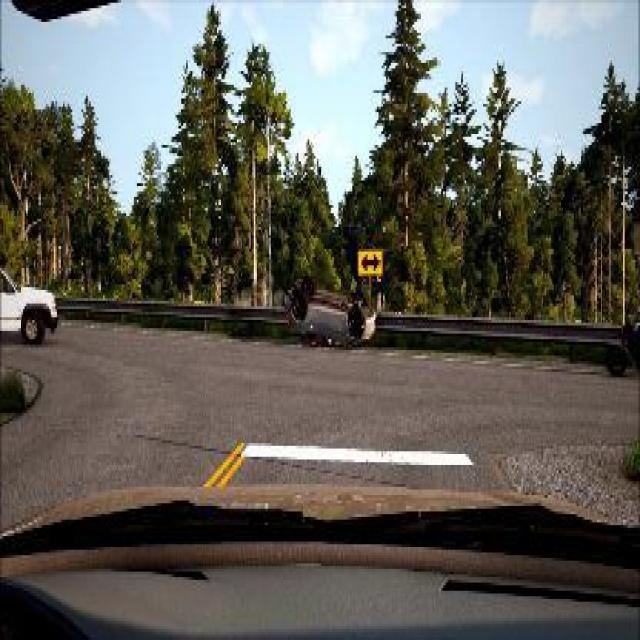accident: (274, 257, 384, 356)
